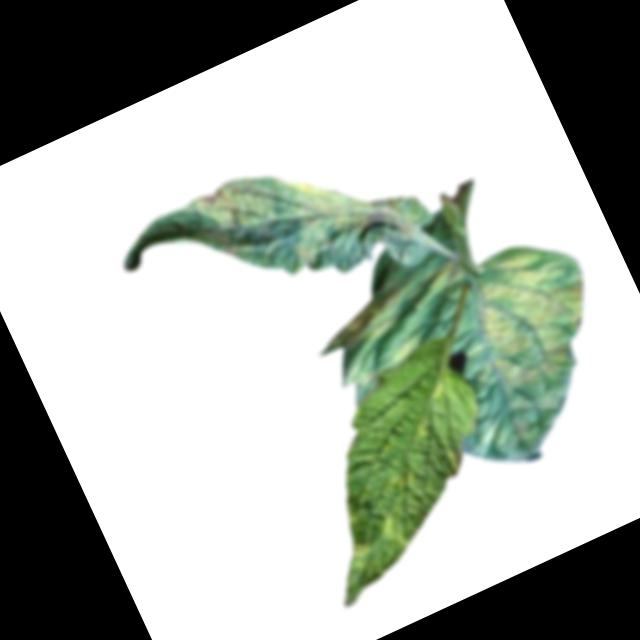Leaf_Mold: (180, 114, 427, 317), (454, 223, 640, 452), (312, 281, 438, 394), (338, 509, 420, 579)
